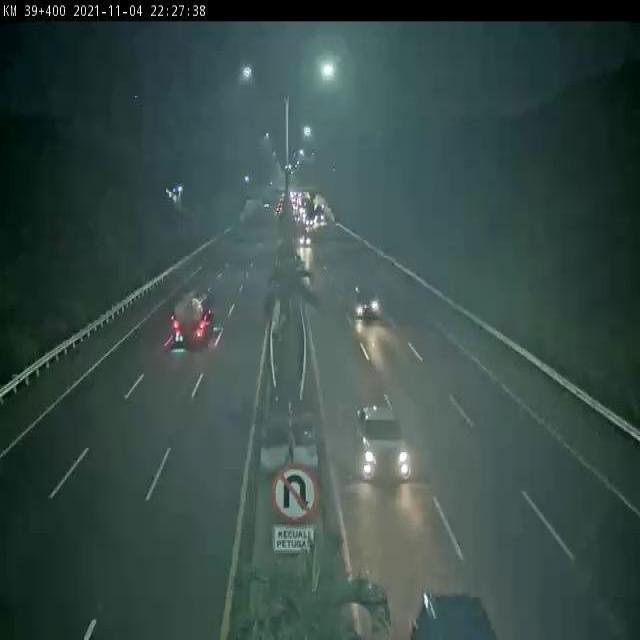car: (357, 405, 411, 480), (355, 291, 380, 320)
truck-l-: (171, 291, 211, 344)
